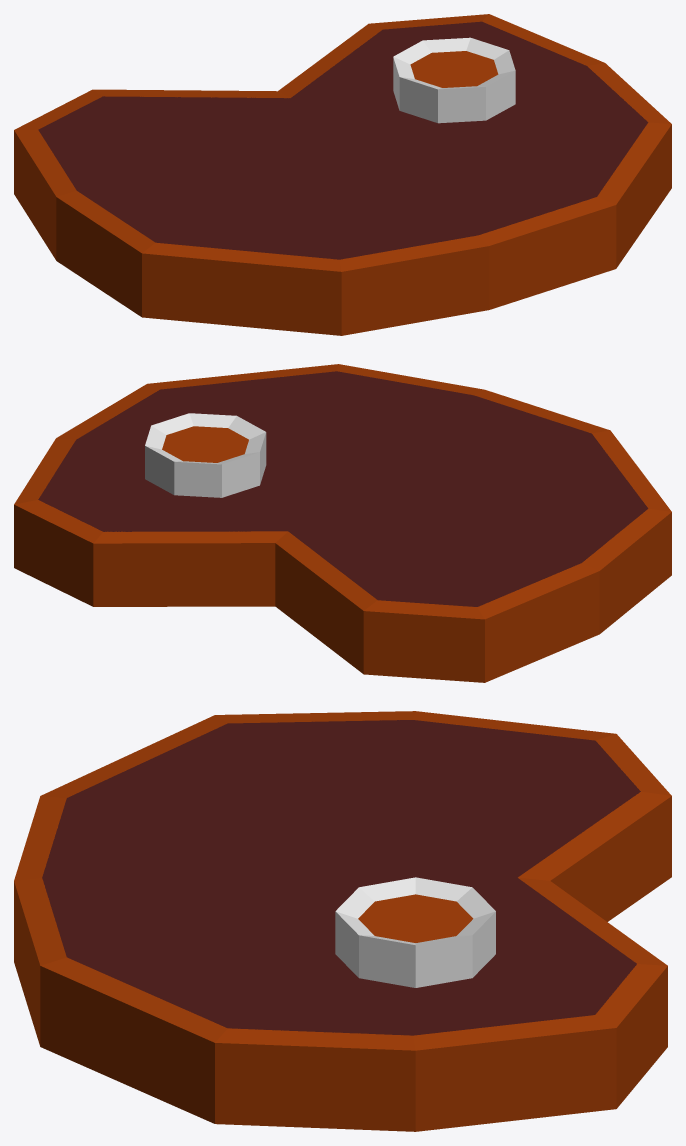
Rendered from Steak.fbx.
The picture shows the model from 3 angles, top to bottom: view 1: azimuth 30°, elevation 25°; view 2: azimuth 150°, elevation 25°; view 3: azimuth 270°, elevation 25°; orthographic projection. The views are drawn at different scales.
Parts seen in each view (by area): view 1: Cylinder; view 2: Cylinder; view 3: Cylinder.
Boxes of the visible parts, left/top/right/bottom form: Cylinder: left=14, top=14, right=671, bottom=335; Cylinder: left=14, top=364, right=671, bottom=682; Cylinder: left=14, top=711, right=671, bottom=1131.
Size of the model in its own units: 200 by 40 by 164.
